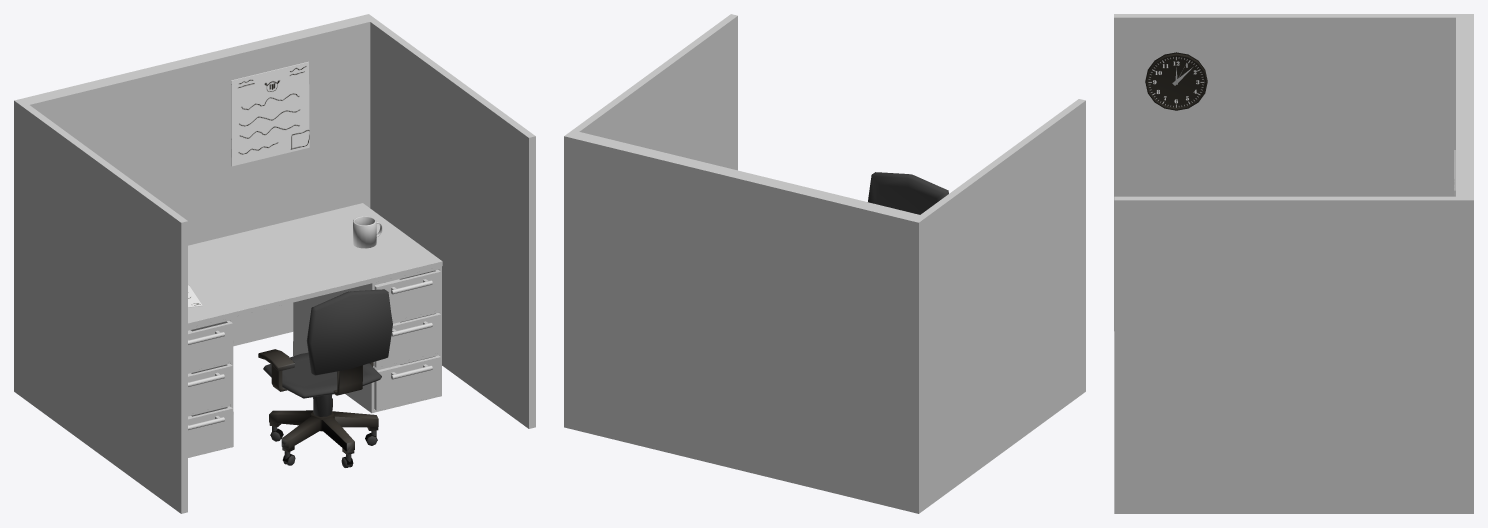
Rendered from cubicle.glb.
3 renders of one model, left to right at view 1: azimuth 30°, elevation 25°; view 2: azimuth 150°, elevation 25°; view 3: azimuth 270°, elevation 25°, orthographic. The views are drawn at different scales.
Visible parts, largest first — view 1: Cubiculo, Escritorio Cerrado, Silla, Hoja.001, Taza; view 2: Cubiculo, Silla; view 3: Cubiculo, Reloj.
Boxes of the visible parts, x1,y1,x2,y2 form: Cubiculo: (14, 14, 535, 513); Escritorio Cerrado: (188, 203, 442, 457); Silla: (258, 289, 392, 467); Hoja.001: (231, 61, 309, 166); Taza: (353, 216, 382, 248); Cubiculo: (564, 14, 1085, 513); Silla: (868, 172, 948, 214); Cubiculo: (1114, 14, 1473, 513); Reloj: (1145, 52, 1207, 110).
Bounding box in the file's own units: 10.2 × 8.01 × 8.32.
Materials: 6 (5 with a texture image).
